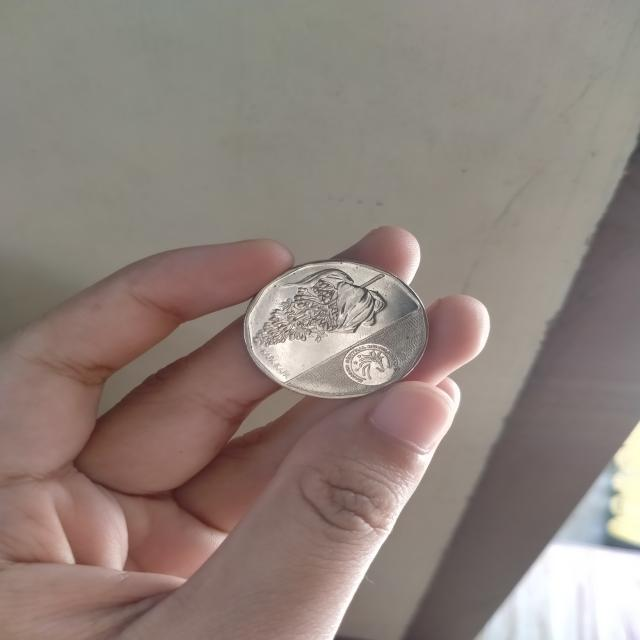10_New_Back: (238, 267, 411, 357)
